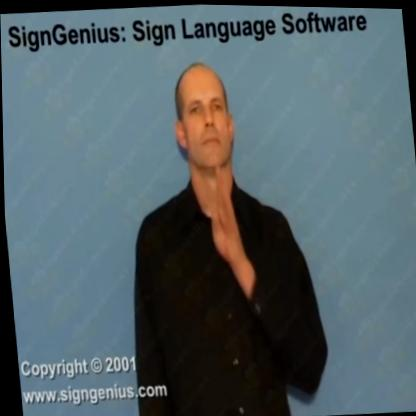Talk: (101, 52, 336, 416)
